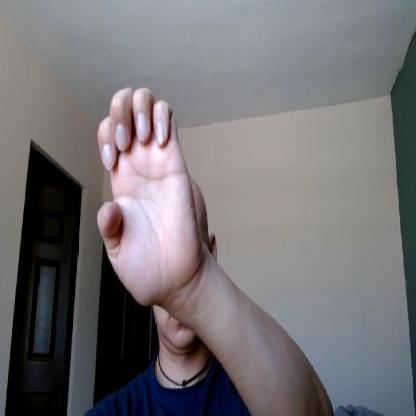E: (95, 86, 202, 307)
